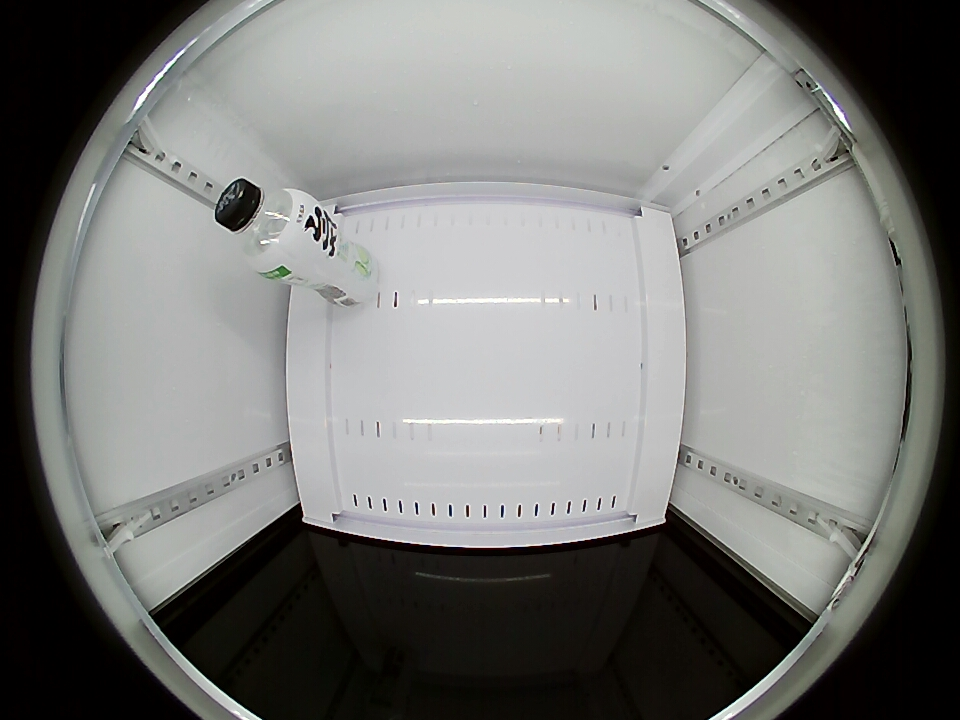yuanqishui: (214, 179, 320, 278)
